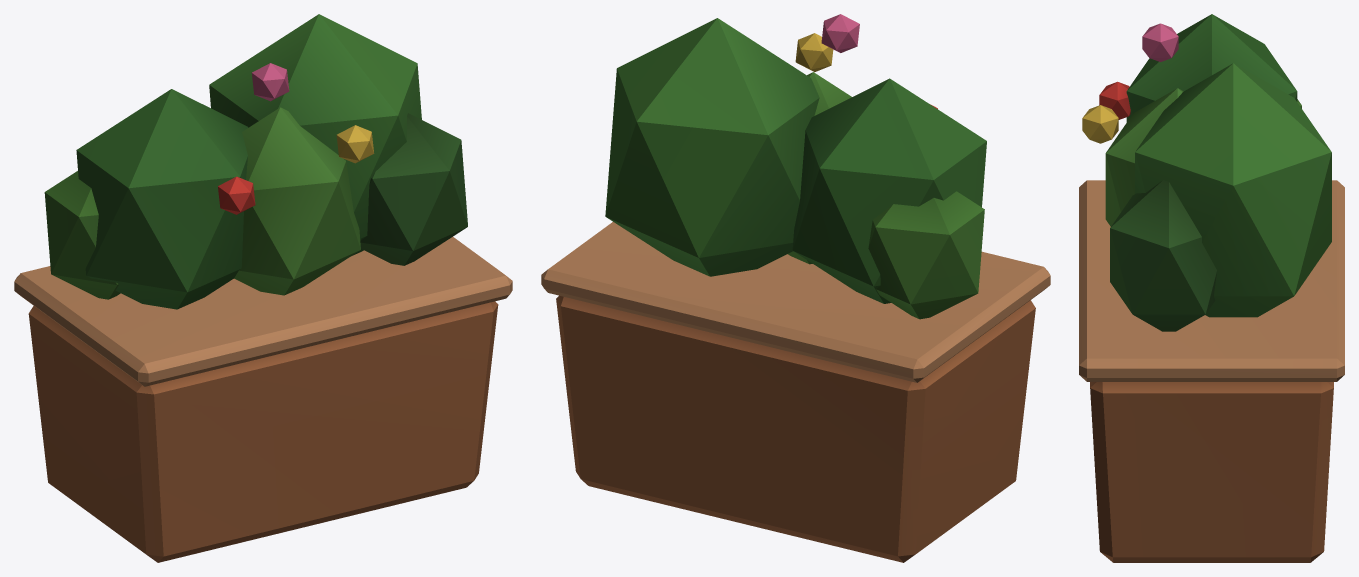
Rendered from planter-BQkbY12k.glb.
The picture shows the model from 3 angles, left to right: view 1: azimuth 30°, elevation 25°; view 2: azimuth 150°, elevation 25°; view 3: azimuth 270°, elevation 25°; orthographic projection. The views are drawn at different scales.
Bounding box in the file's own units: 1.04 × 1.17 × 0.62.
